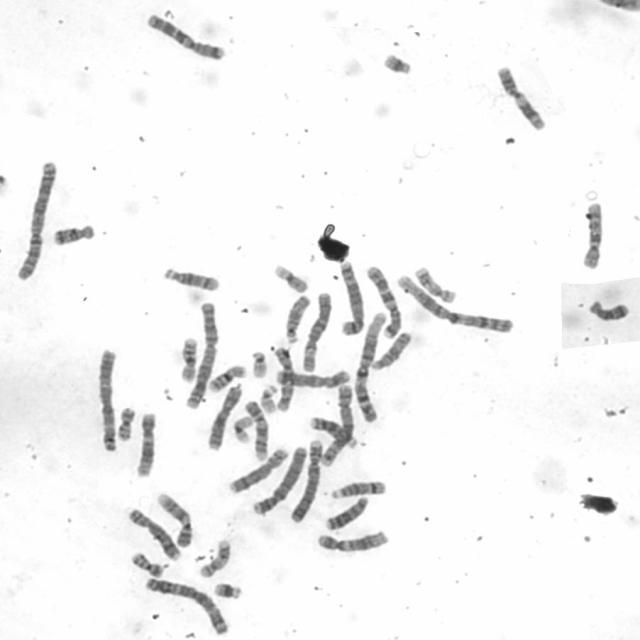A1: (395, 269, 517, 335), (351, 307, 390, 423)
A2: (11, 156, 59, 282), (182, 297, 220, 410)
A3: (140, 573, 232, 636), (93, 344, 120, 453)
B4: (248, 442, 310, 516), (285, 436, 324, 524)
B5: (318, 380, 356, 468), (335, 256, 367, 337)
C10: (578, 197, 606, 271), (271, 343, 297, 413)
C11: (492, 61, 550, 132)
C12: (313, 526, 391, 554), (131, 408, 158, 479)
C6: (299, 288, 334, 373)
C7: (142, 8, 228, 61), (363, 260, 405, 341)
C8: (224, 442, 291, 495), (124, 503, 182, 561)
C9: (153, 488, 195, 548), (241, 395, 271, 462)
D13: (322, 492, 371, 532), (306, 413, 359, 449)
D14: (160, 263, 222, 293), (328, 476, 389, 501)
D15: (368, 328, 414, 372), (281, 290, 312, 344)
E16: (205, 360, 248, 394), (177, 332, 200, 384)
E17: (412, 261, 458, 305), (195, 534, 234, 578)
E18: (49, 219, 98, 247), (584, 295, 631, 323)
F19: (270, 260, 310, 294), (229, 412, 255, 444)
F20: (127, 548, 165, 578), (114, 402, 138, 442)
G21: (378, 48, 415, 76), (210, 578, 245, 601)
G22: (257, 380, 280, 415), (248, 347, 269, 379)
X: (204, 381, 244, 451), (272, 364, 352, 389)
